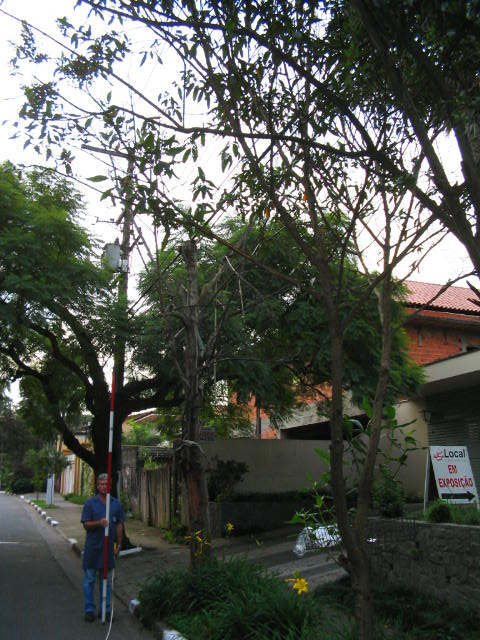stick: (96, 371, 127, 624)
